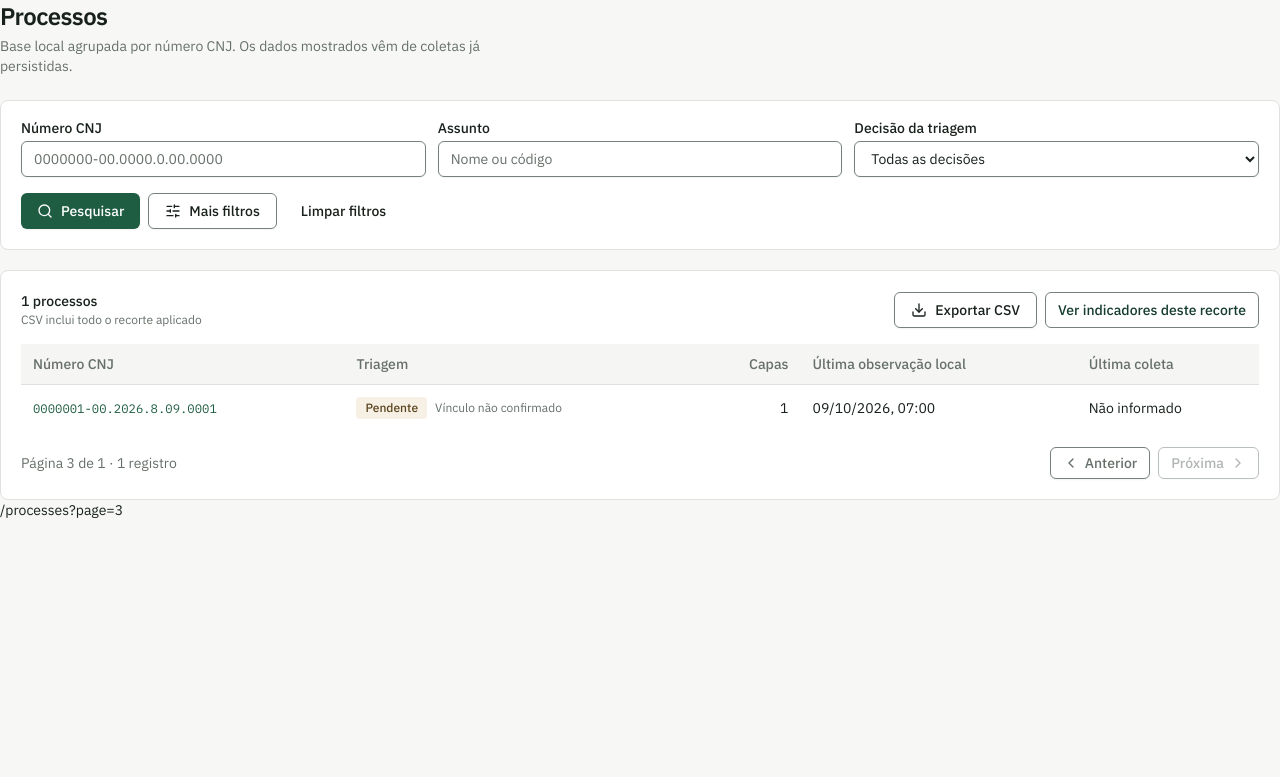
ProcessesPage › applies the filter form to the URL and returns to the first page
The width and height of the screenshot is (1280, 777).
Expected: the link "0000001-00.2026.8.09.0001" is shown, [33,400,217,416]
Click the button "Mais filtros" at (213, 211), box [148,193,277,229]
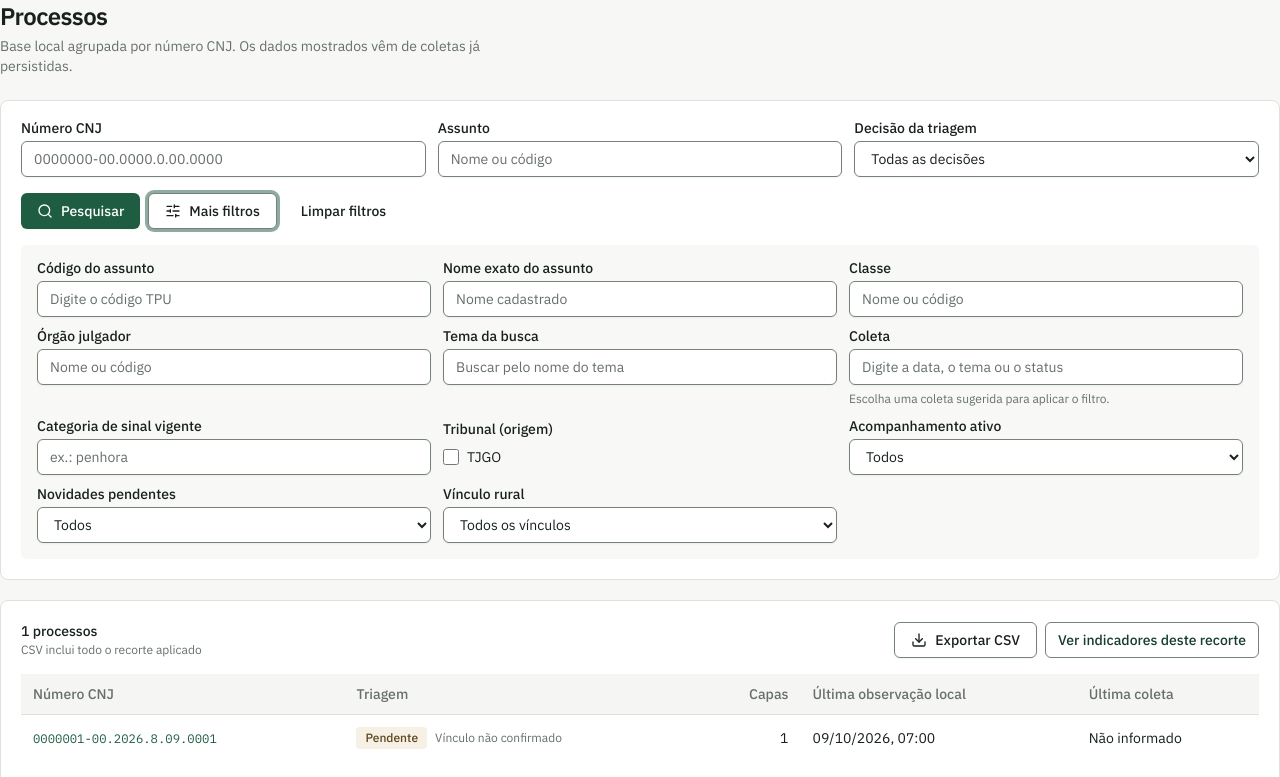
Type "Execução" into the dropdown labelled "Classe" at (1046, 299), box [849,281,1243,317]
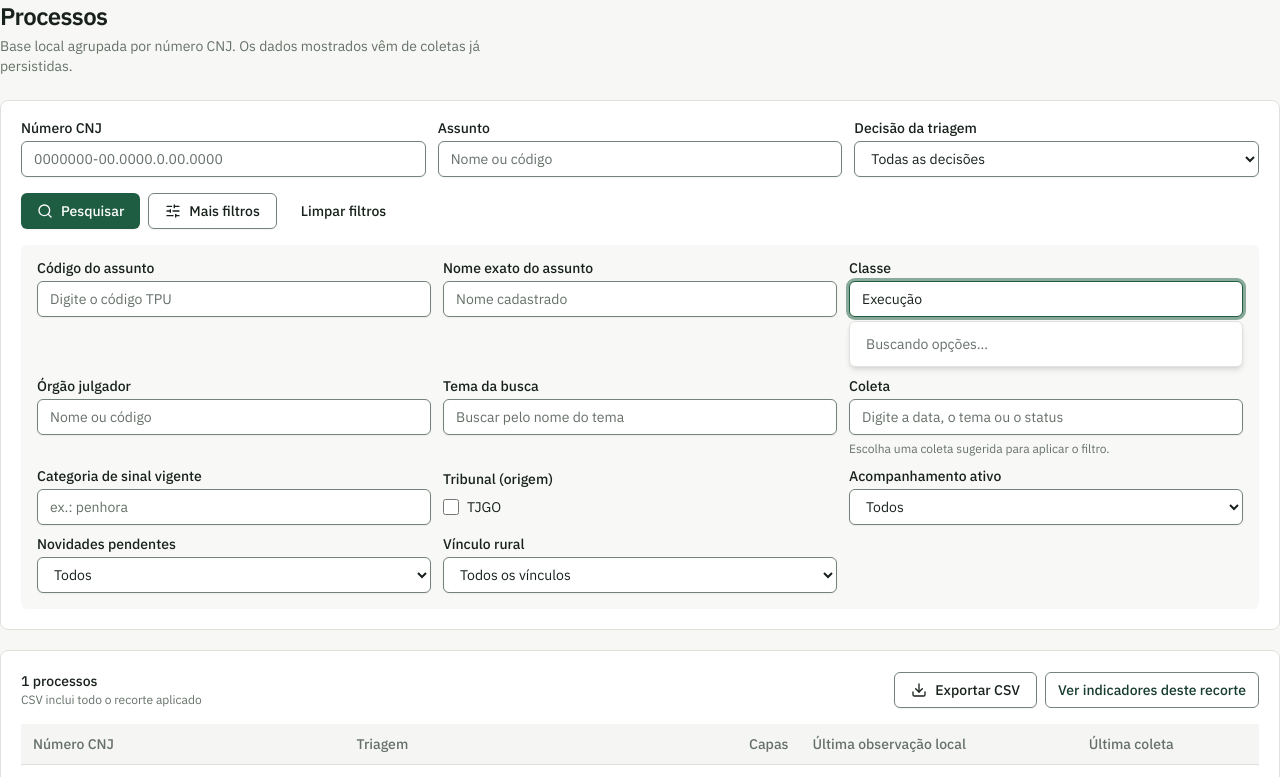
Select "Relevante" in the dropdown labelled "Decisão da triagem" at (1057, 159), box [854,141,1259,177]
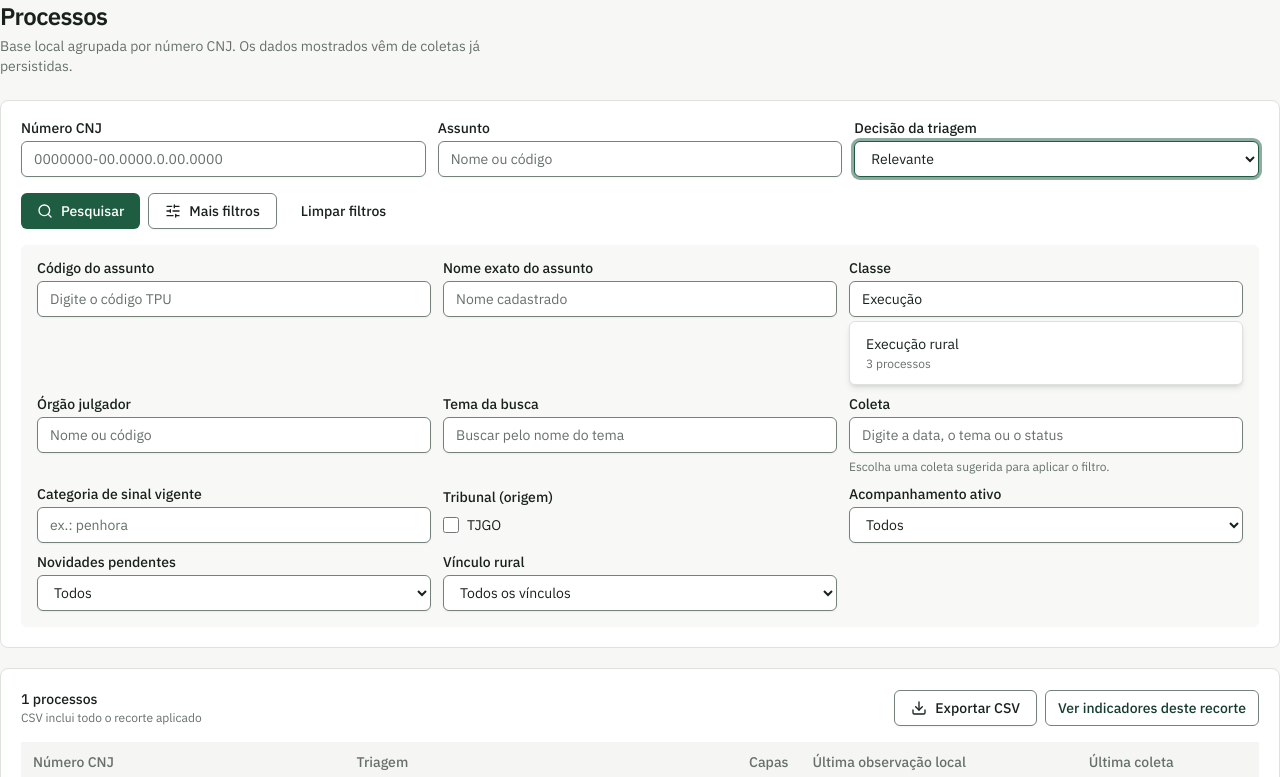
Select "Confirmado manualmente" in the dropdown labelled "Vínculo rural" at (640, 593), box [443,575,837,611]
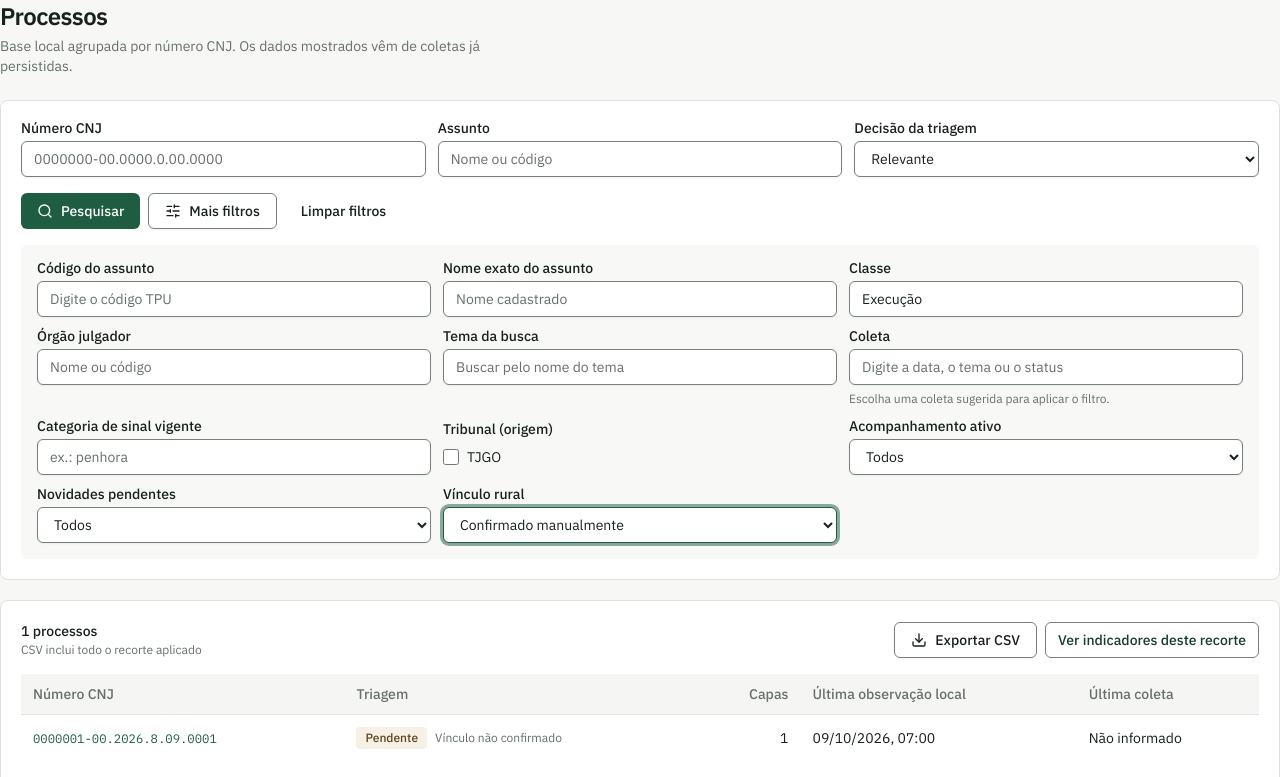
Click the button "Pesquisar" at (81, 211), box [21,193,140,229]
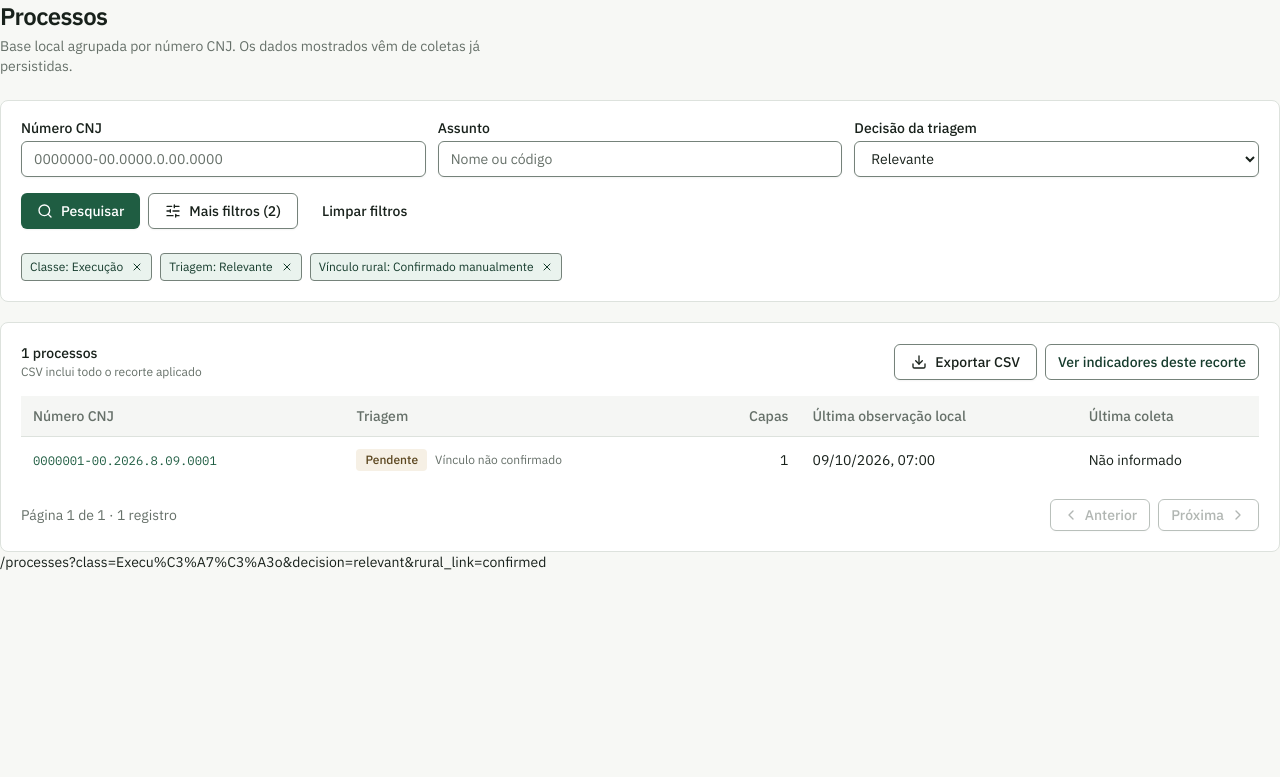
Result: the text with test id "location" shows "class=Execu%C3%A7%C3%A3o" at [0,552,546,570]
Result: the text with test id "location" shows "decision=relevant" at [0,552,546,570]
Result: the text with test id "location" shows "rural_link=confirmed" at [0,552,546,570]
